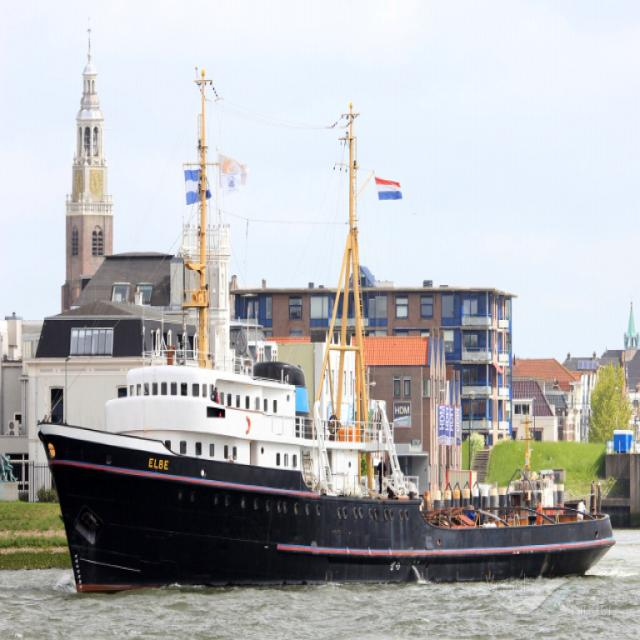tugboat: (40, 322, 612, 584)
